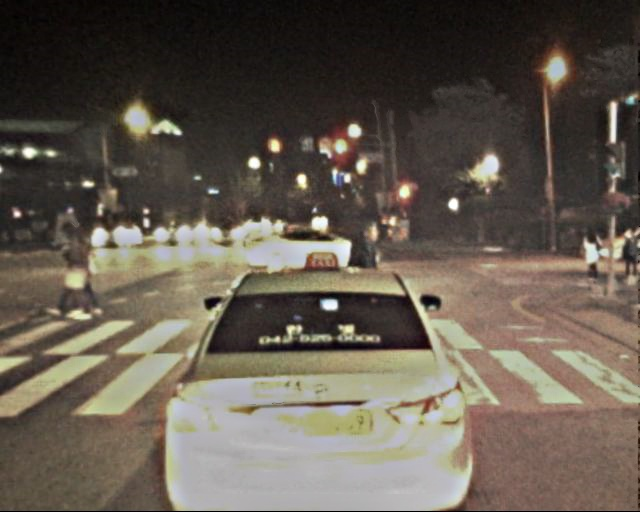person: (342, 219, 400, 360), (55, 218, 102, 317), (581, 227, 604, 283), (620, 229, 640, 280)
